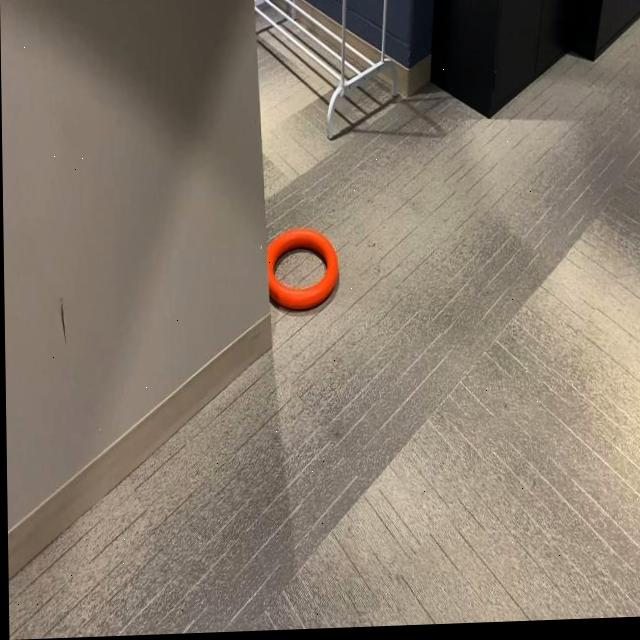note: (264, 226, 341, 314)
